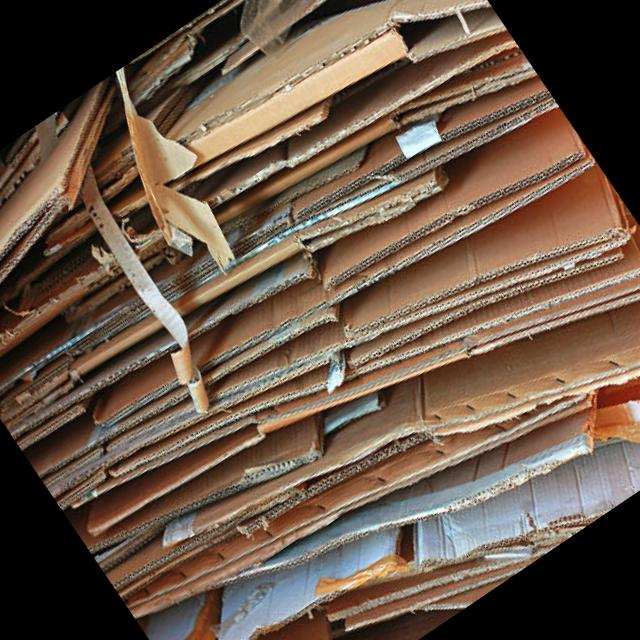Kardus: (0, 0, 640, 640), (71, 60, 262, 292)
